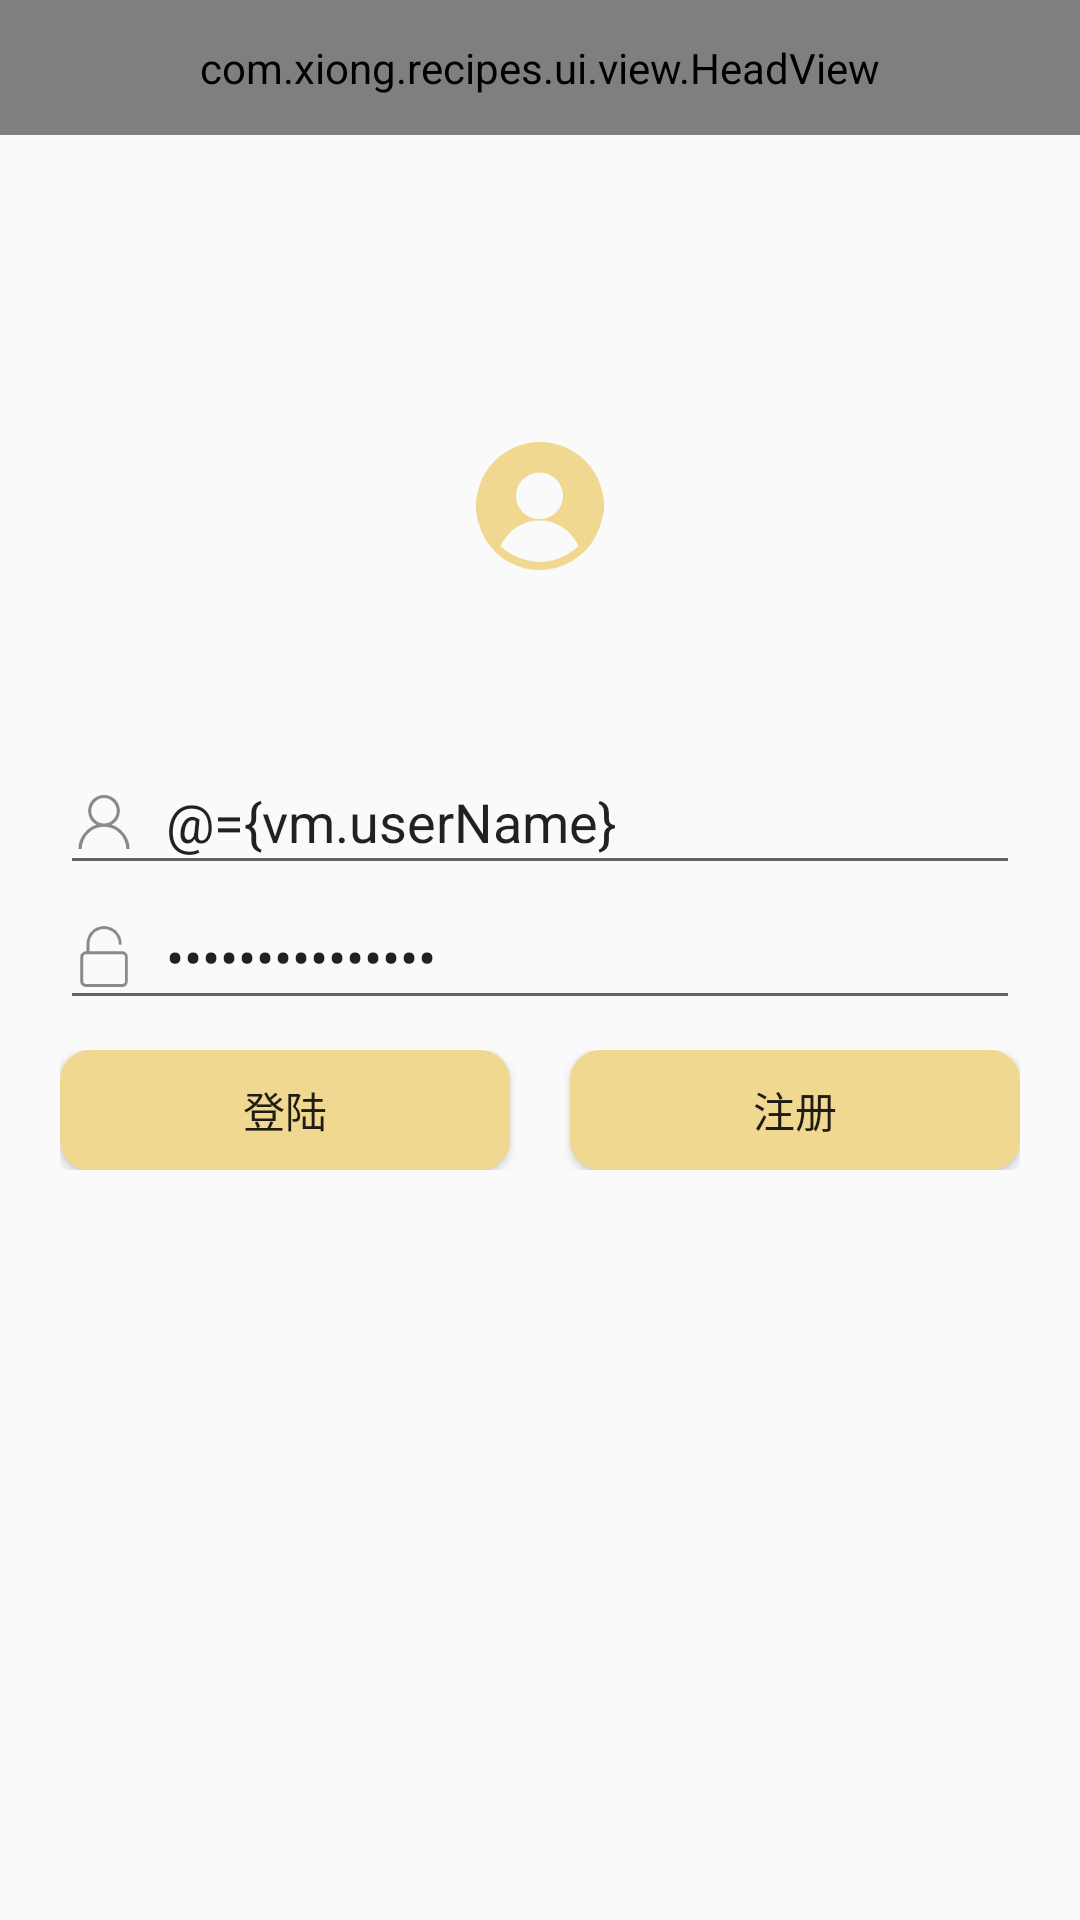

Locate icon controls on the screen. Image size 1080w x 1920h, boxes as (x1, y1, x2, y2).
login user: (476, 442, 604, 570)
